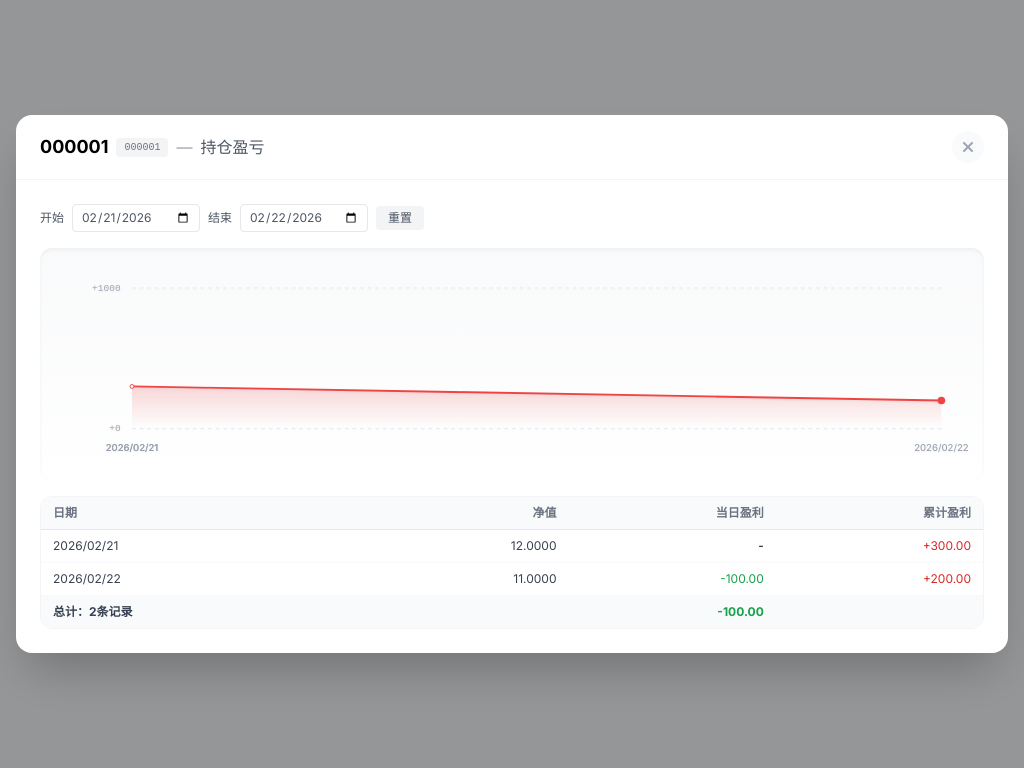
Scenario: ProfitModal › date validation prevents selecting before initialStartDate
This screenshot has width=1024, height=768.
attempt to set fromDate to 2026-02-20 which is before initialStartDate
In the date field labelled "开始": (136,218) [72,204,200,232], type "2026-02-20"
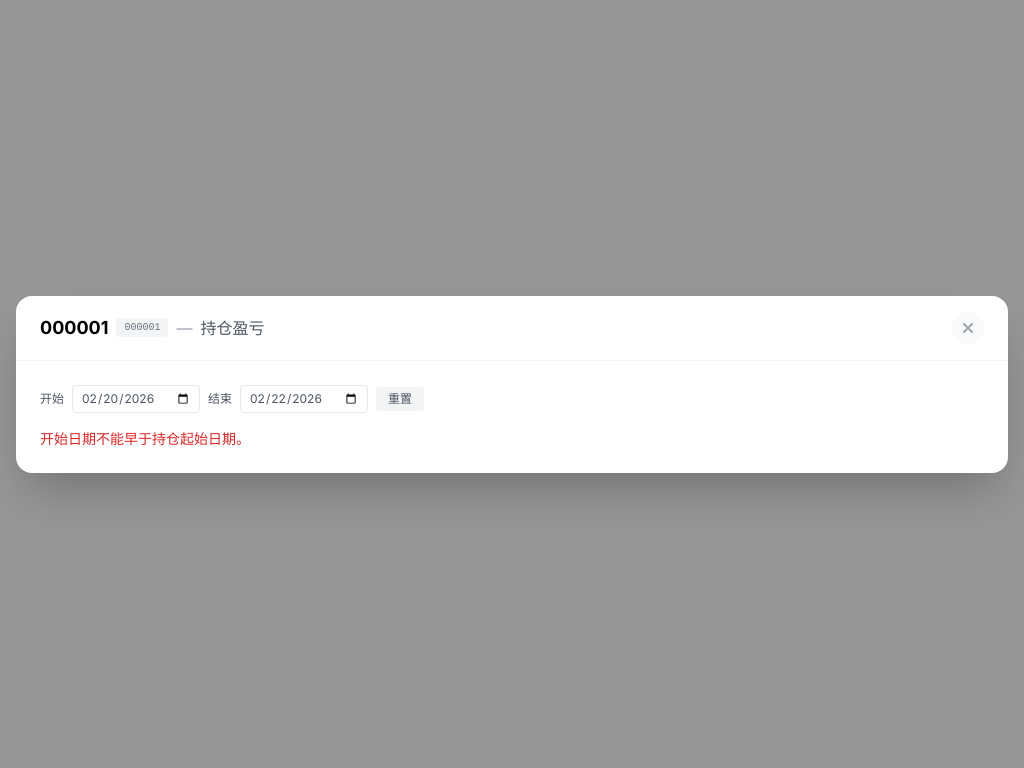
Check: the text "开始日期不能早于持仓起始日期。" is shown, box [40,430,250,446]
